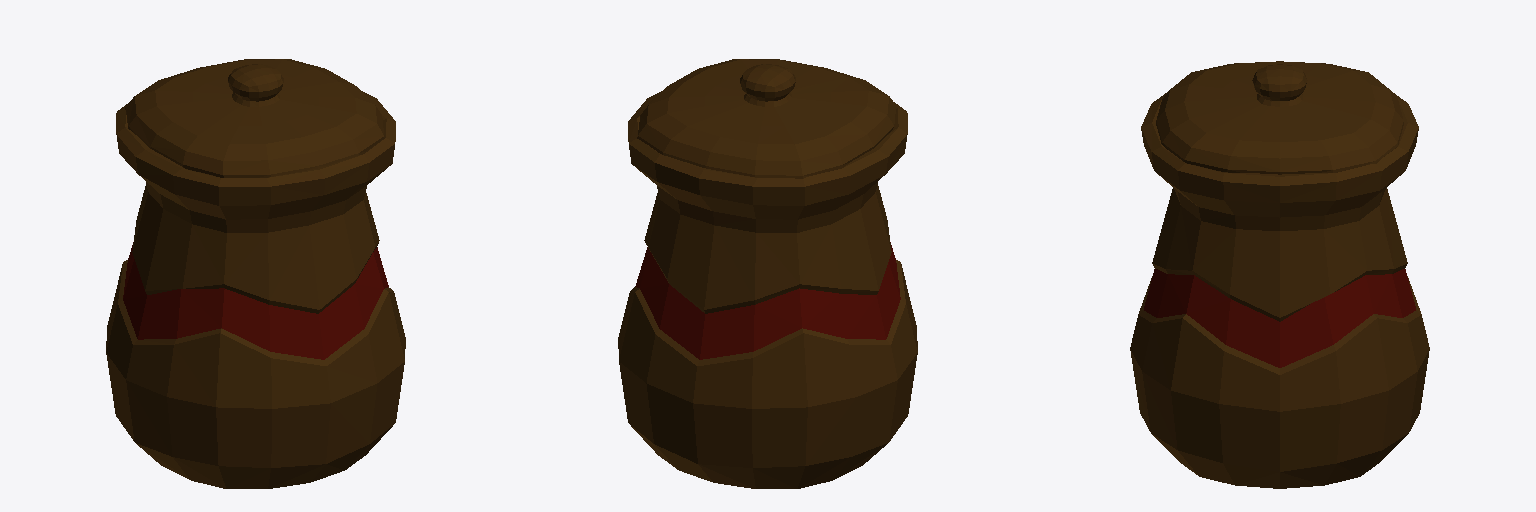
The model's file is Pot2.obj.
3 renders of one model, left to right at view 1: azimuth 30°, elevation 25°; view 2: azimuth 150°, elevation 25°; view 3: azimuth 270°, elevation 25°, orthographic.
Visible parts, largest first — view 1: Pot2; view 2: Pot2; view 3: Pot2.
Boxes of the visible parts, x1,y1,x2,y2 form: Pot2: [106, 59, 405, 488]; Pot2: [618, 59, 917, 488]; Pot2: [1130, 61, 1429, 488].
Bounding box in the file's own units: 0.4633 × 0.6373 × 0.4633.